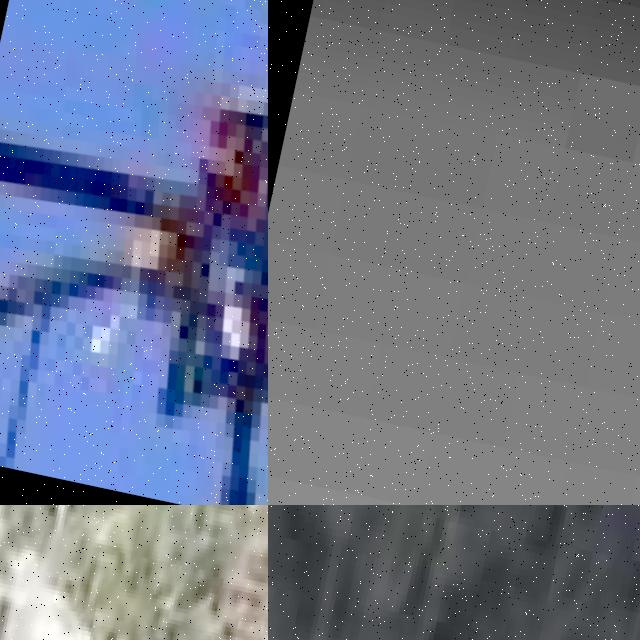drone: (0, 0, 268, 505)
